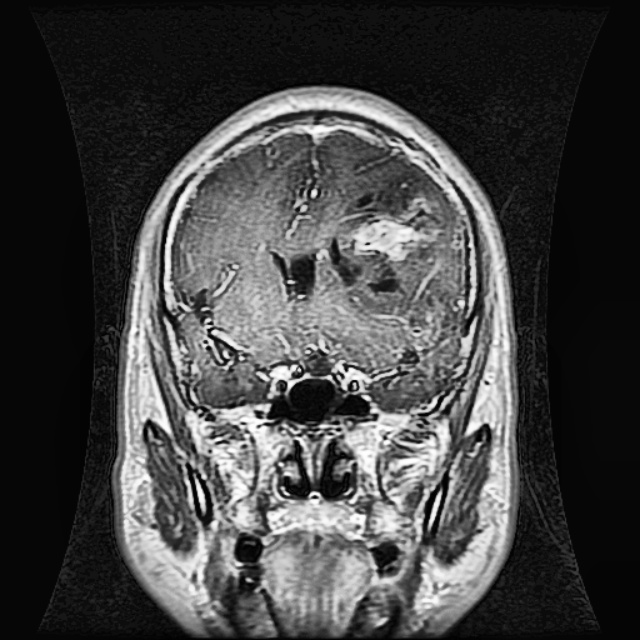Glioma: (325, 190, 443, 299)
